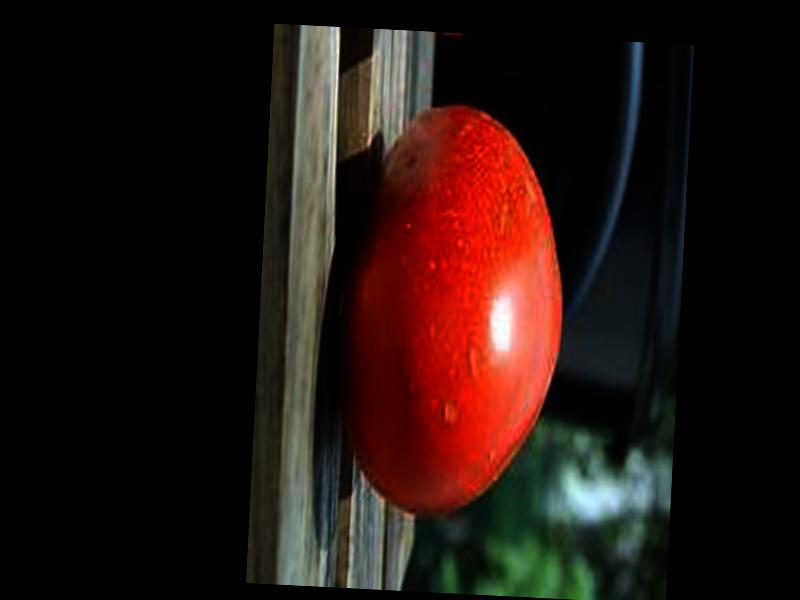Tomato: (334, 100, 574, 523)
